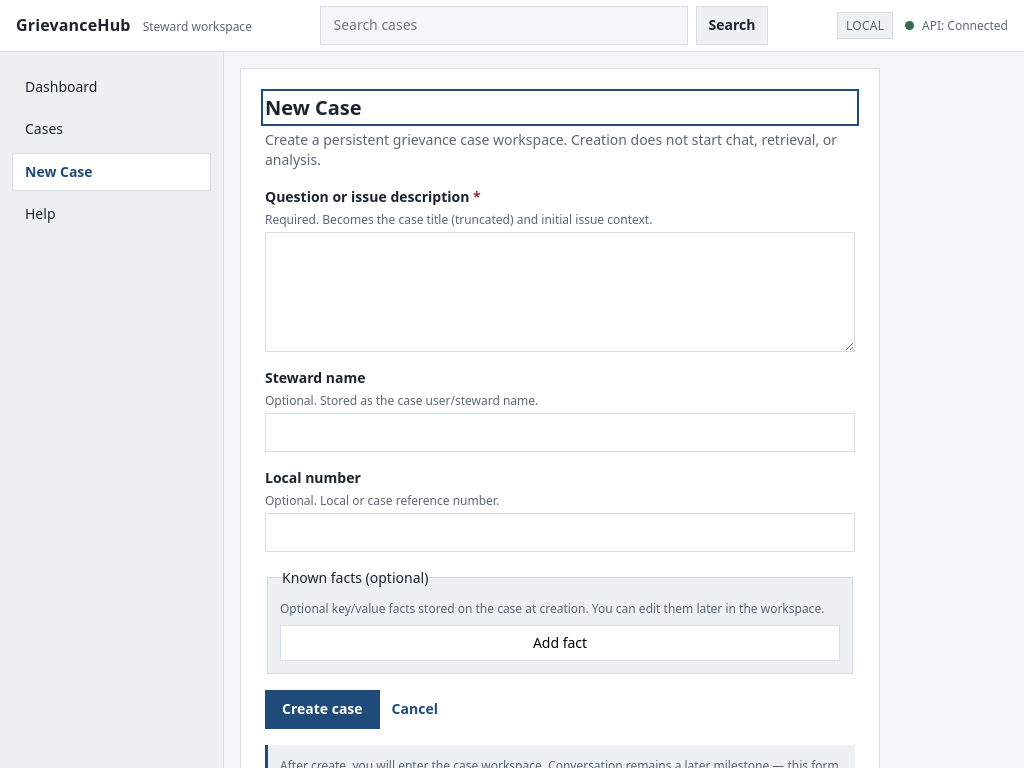
Test case: W6 M2 Create Case and Workspace Restoration › preserves form values after create failure and prevents duplicate submit
Type "Preserved question text" into the text box labelled "Question or issue description *" at (560, 292), box [265,232,855,352]
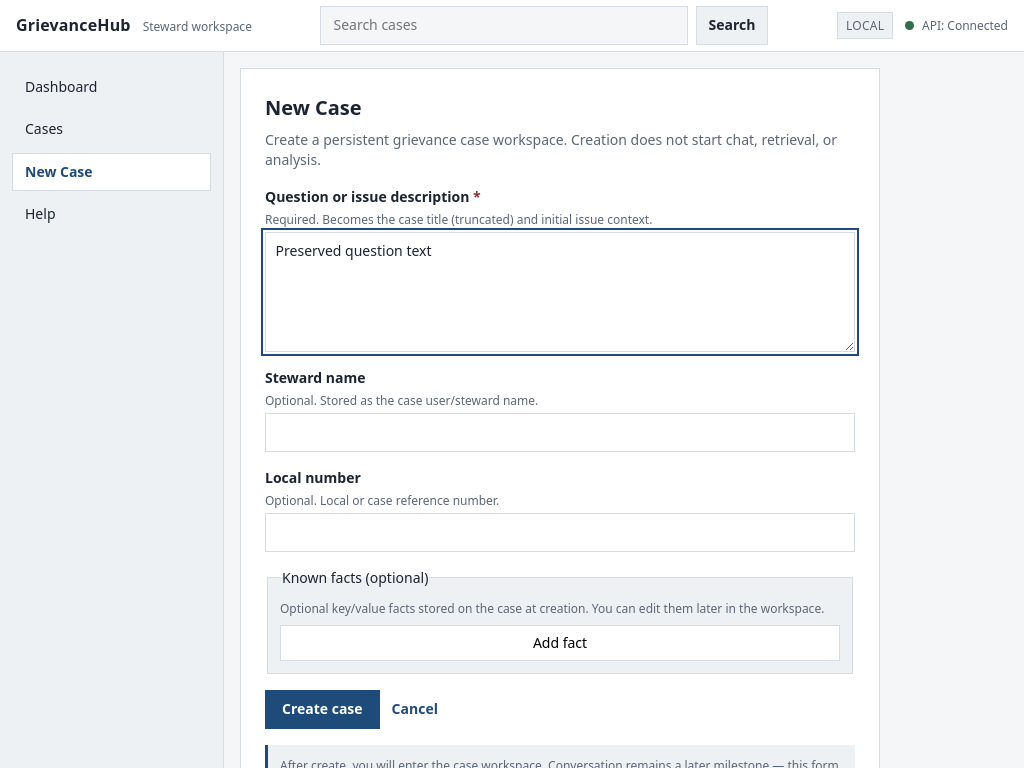
Type "Steward Bea" into the field labelled "Steward name" at (560, 433), box [265,414,855,452]
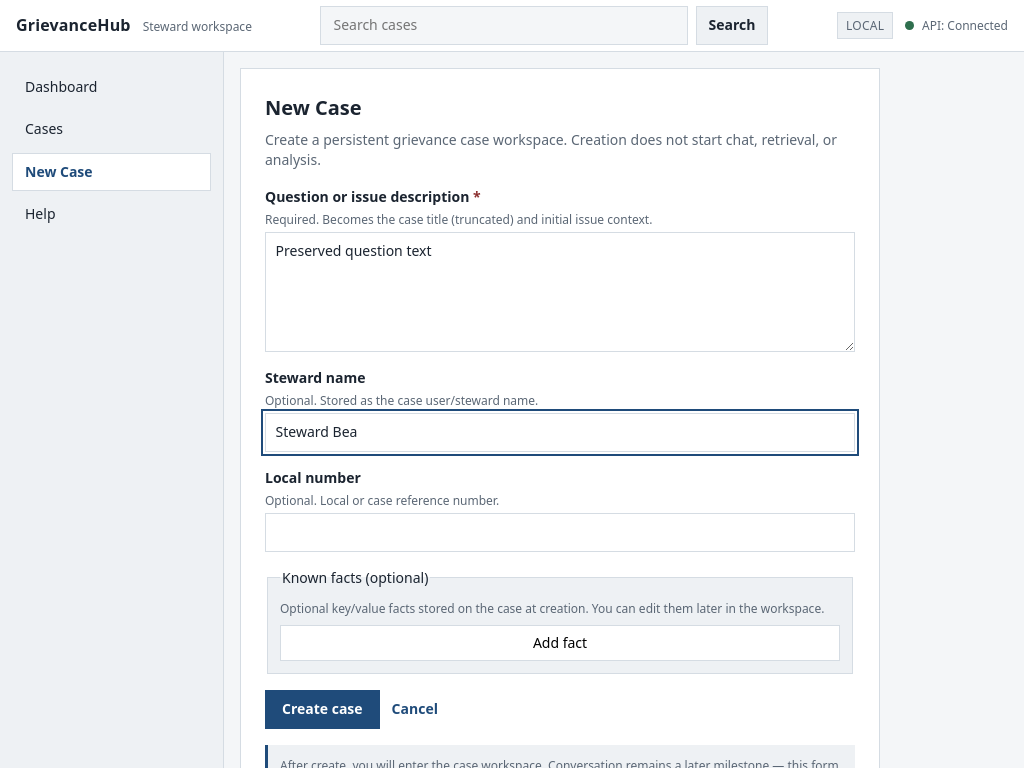
Click the button "Create case" at (322, 709), box [265,690,380,729]
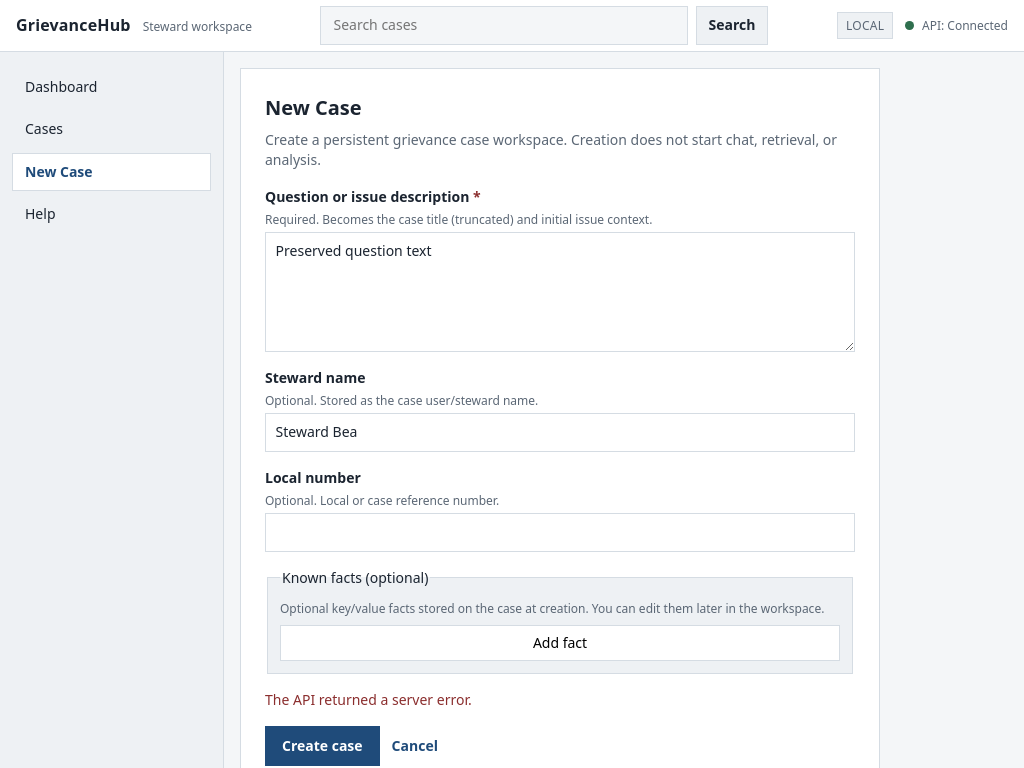
Expected: the message "The API returned a server error." is shown, [265,690,472,708]
